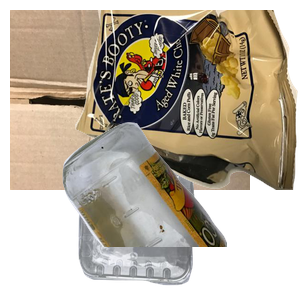cardboard: (10, 10, 250, 190)
glass: (60, 120, 300, 300)
plastic: (76, 162, 264, 300)
trash: (75, 10, 300, 190)
